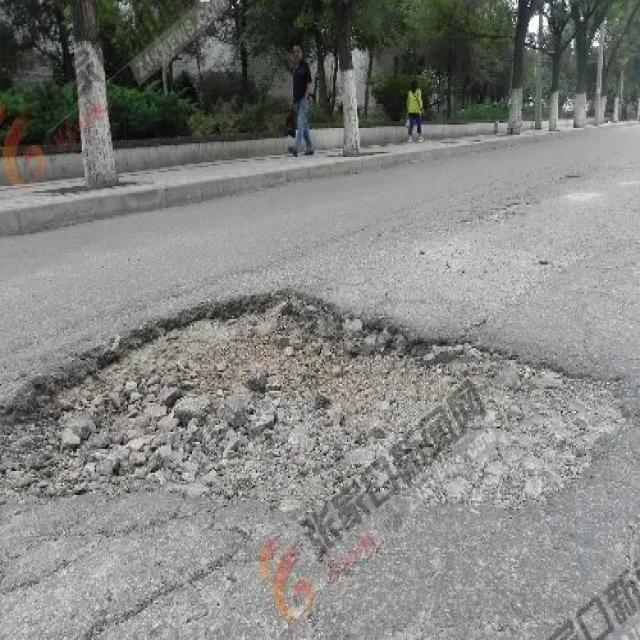Pothole: (4, 289, 630, 517)
